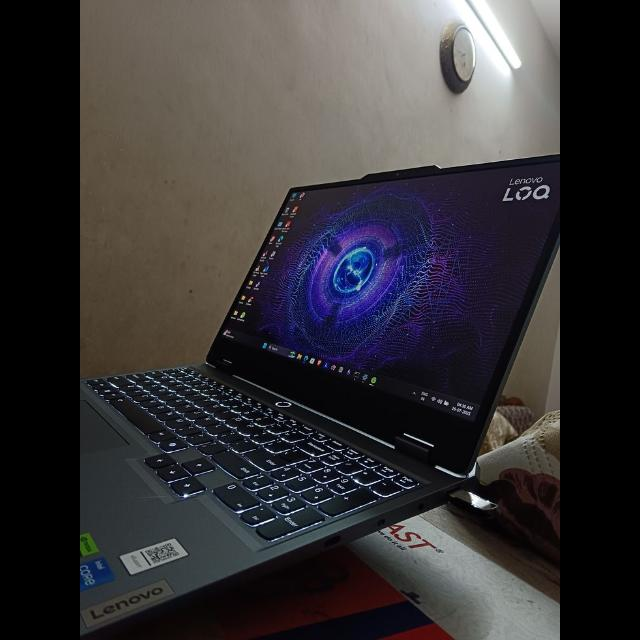laptop: (80, 156, 560, 637)
